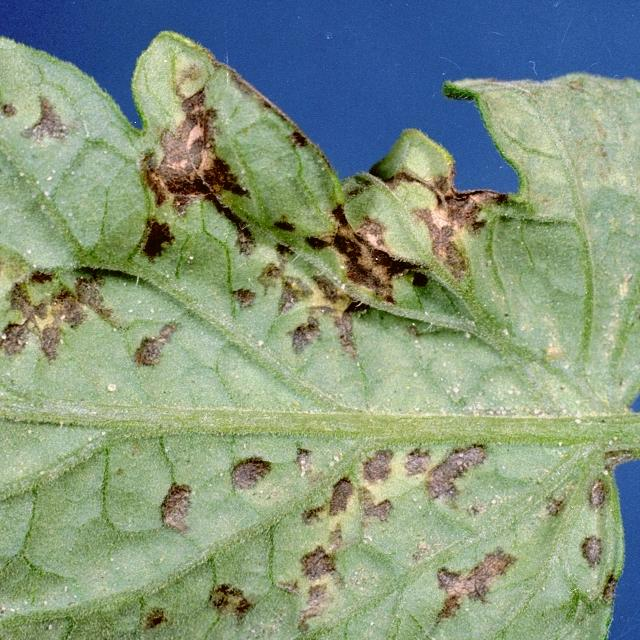Tomato leaf bacterial spot: (0, 47, 640, 640)
